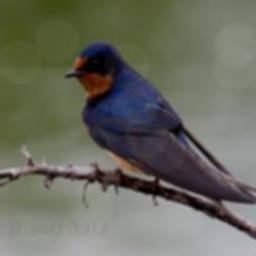Swallow: (63, 38, 256, 210)
